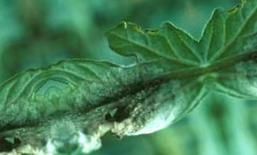Tomato leaf late blight: (41, 9, 226, 155)
